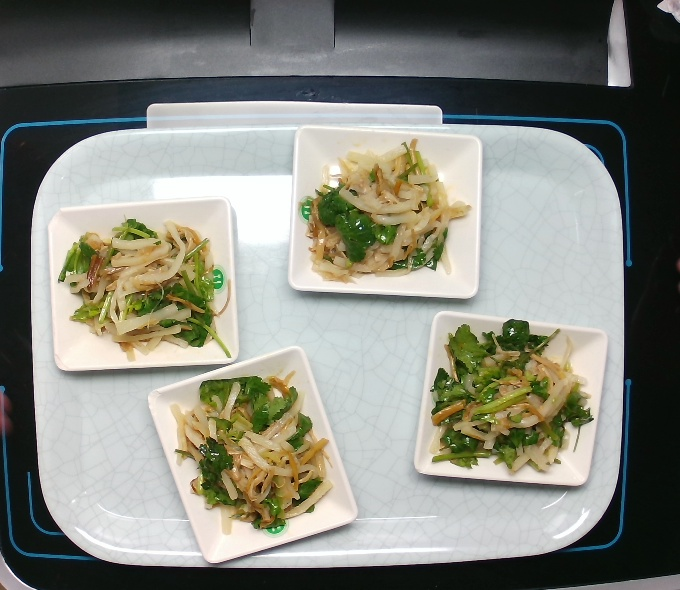wcq-LiangBanJinZhenGu: (168, 366, 331, 537), (428, 320, 593, 474), (56, 218, 236, 356), (301, 139, 472, 284)
